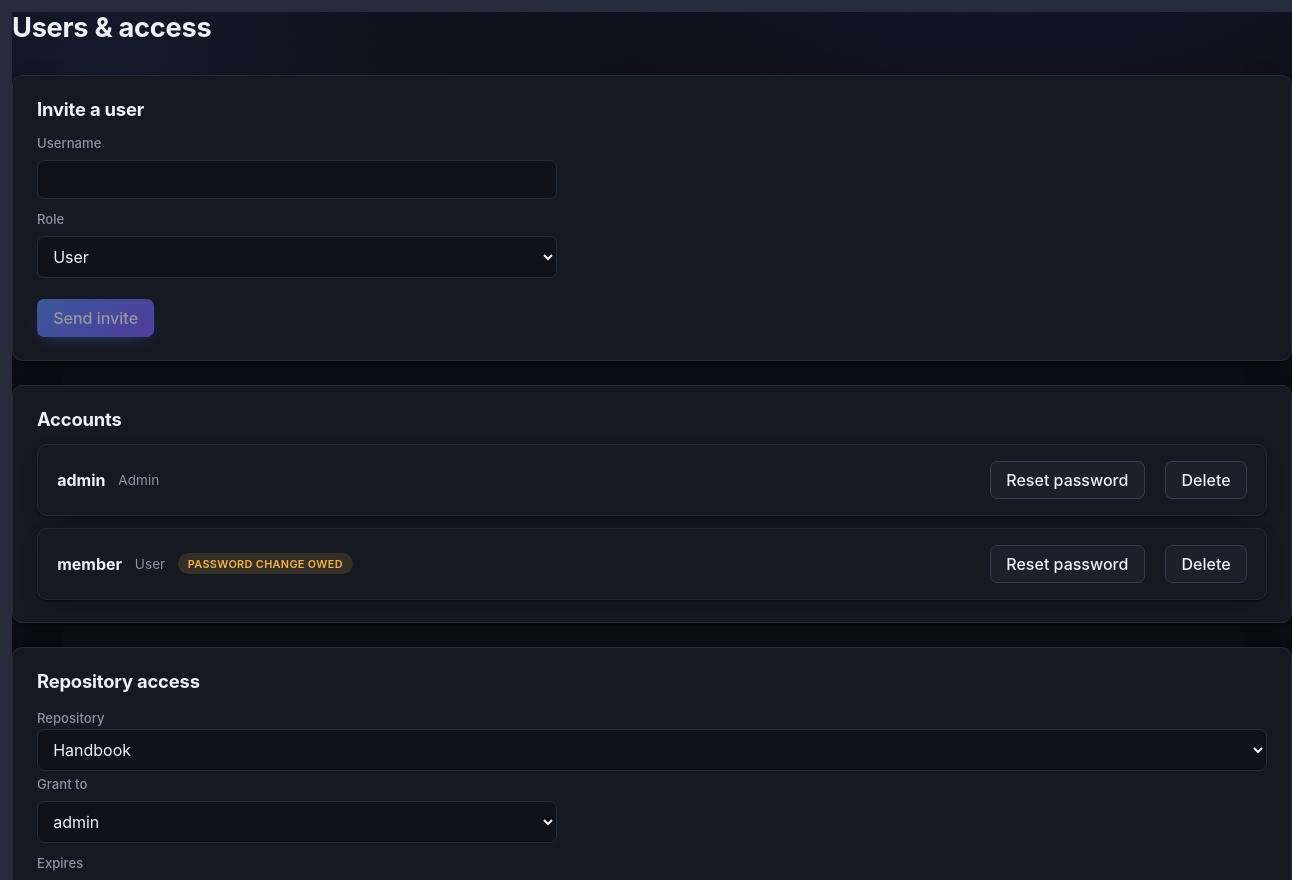
Test: AdminUsersPage › resets a user's password and shows the temporary password once
Click the button "Reset password" in the row of "Password change owed" at (1067, 564), box [990,545,1145,583]
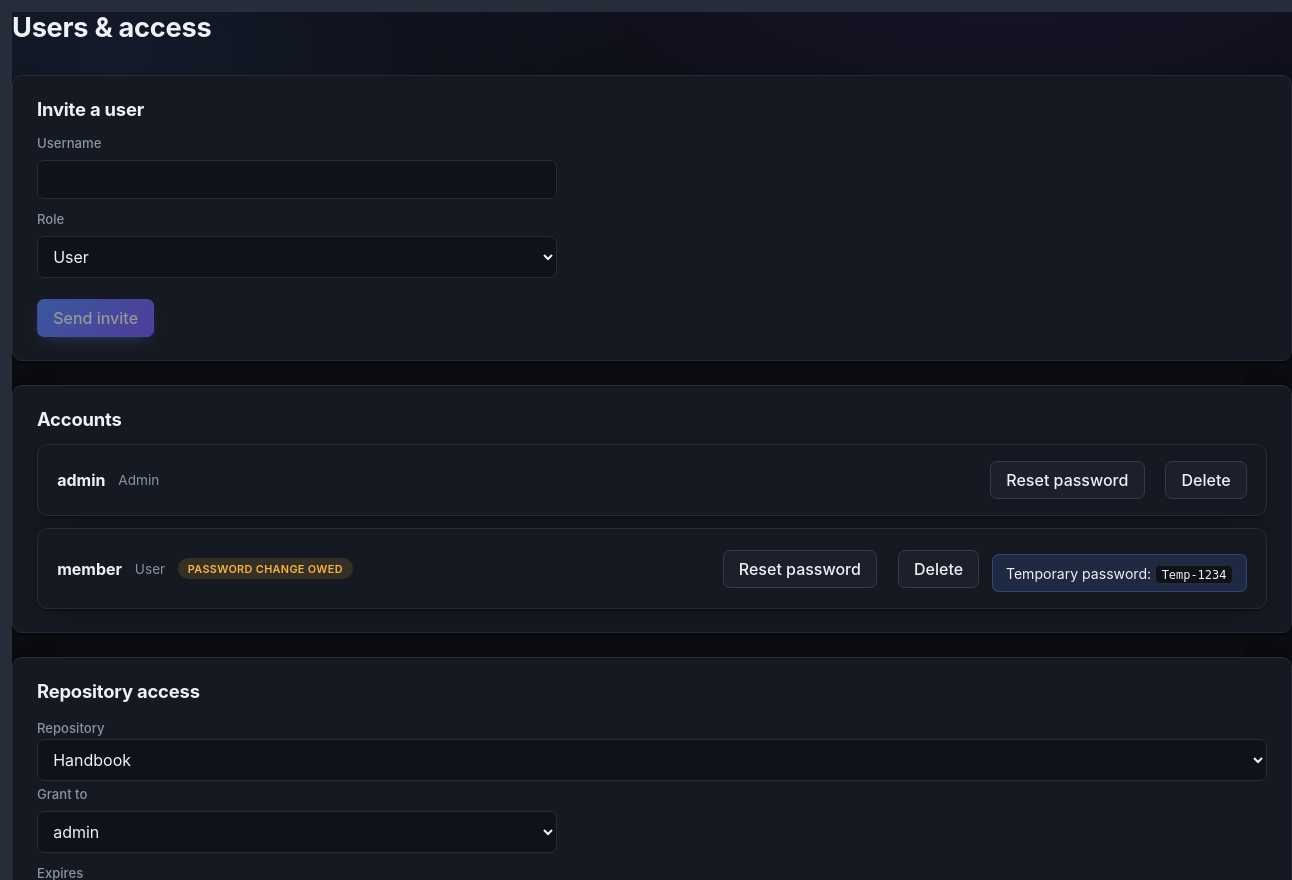
Expected: the text "Temp-1234" is shown, [1155,565,1233,584]
